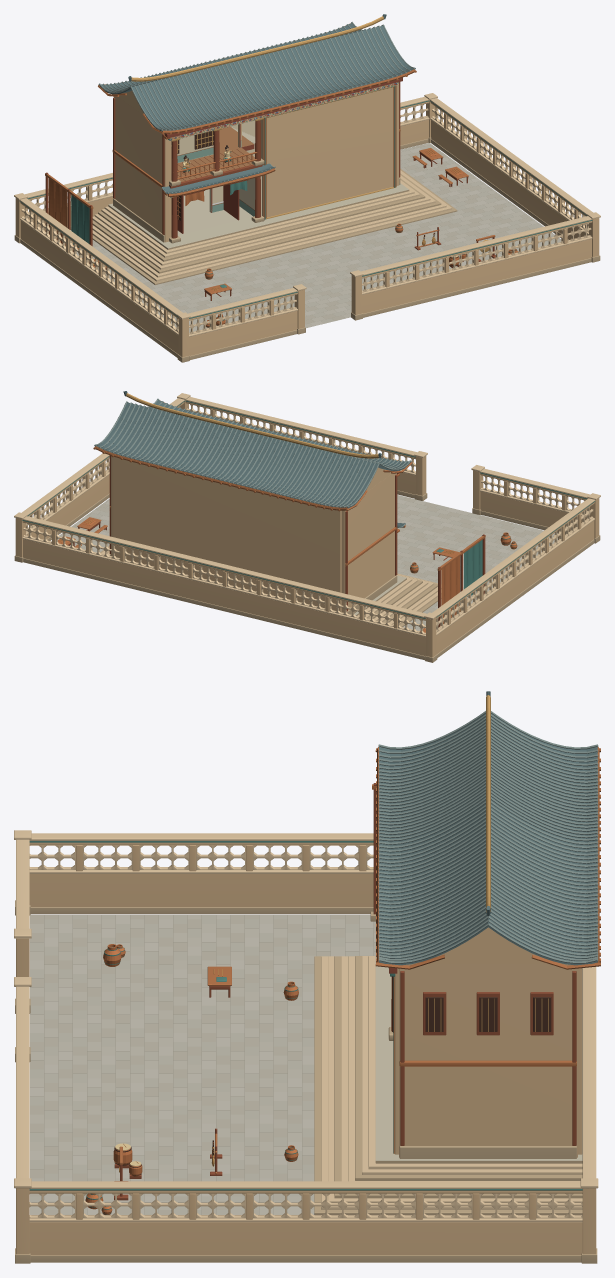
Rendered from music-pavilion.glb.
The picture shows the model from 3 angles, top to bottom: view 1: azimuth 30°, elevation 25°; view 2: azimuth 150°, elevation 25°; view 3: azimuth 270°, elevation 25°; orthographic projection. The views are drawn at different scales.
Visible parts, largest first — view 1: court-paving--court-limestone-0, architecture--plaster.001, courtyard-enclosure--plaster.001, courtyard-enclosure--stone-light.001, main-roof--tile.001, terraced-foundation--stone-light, main-roof--tile-edge.001, terraced-foundation--stone, terraced-foundation--stone.001, courtyard-enclosure--stone, porch--wood.001, porch--wood-light.001 (+16 smaller); view 2: architecture--plaster.001, courtyard-enclosure--plaster.001, courtyard-enclosure--stone-light.001, main-roof--tile.001, court-paving--court-limestone-0, main-roof--tile-edge.001, courtyard-enclosure--stone, courtyard-enclosure--teal.001, terraced-foundation--stone-light, main-roof--wood-light.001, main-roof--ochre.001, high-drapery--cloth-orange (+5 smaller); view 3: court-paving--court-limestone-0, main-roof--tile-edge.001, courtyard-enclosure--plaster.001, architecture--plaster.001, courtyard-enclosure--stone-light.001, main-roof--tile.001, terraced-foundation--stone-light, terraced-foundation--stone, court-paving--court-fine-joints, courtyard-enclosure--stone, terraced-foundation--stone.001, mural-frame--wood.001 (+9 smaller).
Boxes of the visible parts, <box> form: court-paving--court-limestone-0: <box>71,143,561,332</box>; architecture--plaster.001: <box>113,85,398,242</box>; courtyard-enclosure--plaster.001: <box>15,100,599,357</box>; courtyard-enclosure--stone-light.001: <box>14,93,600,336</box>; main-roof--tile.001: <box>99,14,413,131</box>; terraced-foundation--stone-light: <box>92,170,451,281</box>; main-roof--tile-edge.001: <box>98,21,415,131</box>; terraced-foundation--stone: <box>92,168,457,284</box>; terraced-foundation--stone.001: <box>108,183,409,249</box>; courtyard-enclosure--stone: <box>14,137,600,362</box>; porch--wood.001: <box>169,120,262,238</box>; porch--wood-light.001: <box>163,135,257,219</box>; architecture--plaster.001: <box>111,456,396,612</box>; courtyard-enclosure--plaster.001: <box>15,400,599,657</box>; courtyard-enclosure--stone-light.001: <box>14,393,600,637</box>; main-roof--tile.001: <box>96,391,410,508</box>; court-paving--court-limestone-0: <box>51,495,557,631</box>; main-roof--tile-edge.001: <box>94,398,411,508</box>; courtyard-enclosure--stone: <box>14,490,600,662</box>; courtyard-enclosure--teal.001: <box>22,400,595,618</box>; terraced-foundation--stone-light: <box>101,547,441,624</box>; main-roof--wood-light.001: <box>93,400,412,511</box>; main-roof--ochre.001: <box>126,393,378,458</box>; high-drapery--cloth-orange: <box>441,556,459,623</box>; court-paving--court-limestone-0: <box>30,915,375,1214</box>; main-roof--tile-edge.001: <box>378,711,598,963</box>; courtyard-enclosure--plaster.001: <box>16,842,596,1255</box>; architecture--plaster.001: <box>394,964,582,1157</box>; courtyard-enclosure--stone-light.001: <box>14,830,598,1222</box>; main-roof--tile.001: <box>379,691,597,965</box>; terraced-foundation--stone-light: <box>321,956,582,1209</box>; terraced-foundation--stone: <box>314,956,582,1214</box>; court-paving--court-fine-joints: <box>30,915,375,1214</box>; courtyard-enclosure--stone: <box>15,900,597,1263</box>; terraced-foundation--stone.001: <box>375,956,582,1163</box>; mural-frame--wood.001: <box>400,971,576,1145</box>.
Bounding box in the file's own units: 46.98 × 17.83 × 32.78.
34 materials, 1 textured.
